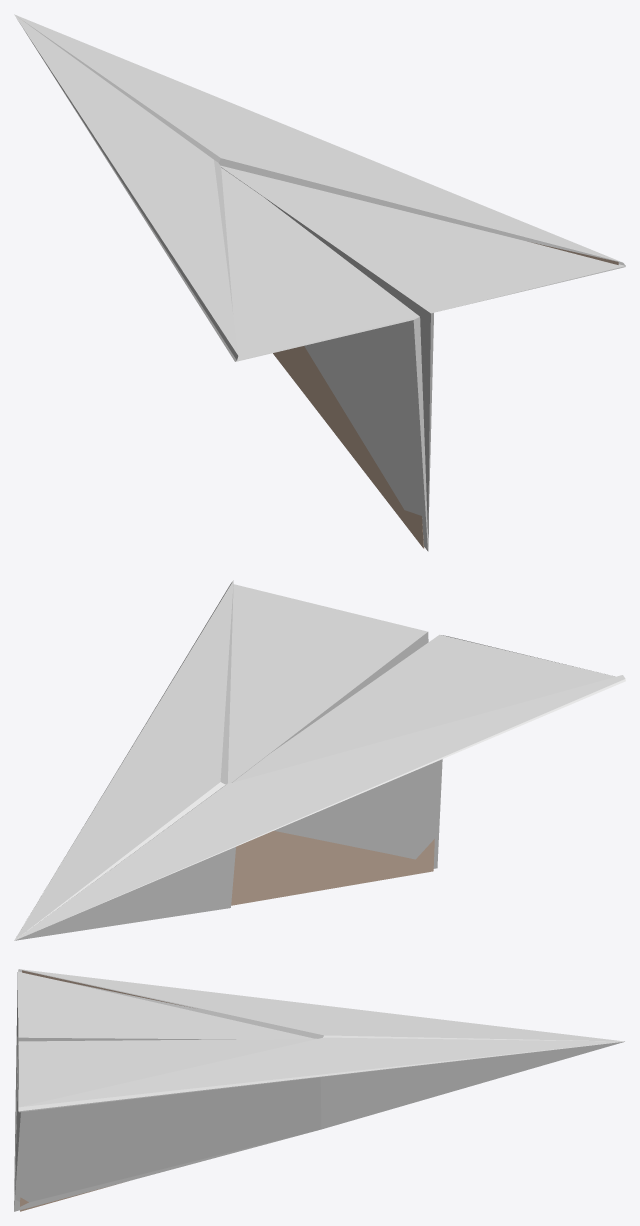
Rendered from paper_plane_model.fbx.
3 views of the same model, one above another, from view 1: azimuth 30°, elevation 25°; view 2: azimuth 150°, elevation 25°; view 3: azimuth 270°, elevation 25° (orthographic). The views are drawn at different scales.
Parts seen in each view (by area): view 1: Cube; view 2: Cube; view 3: Cube.
Boxes of the visible parts, x1,y1,x2,y2 form: Cube: [14, 14, 625, 551]; Cube: [14, 580, 625, 940]; Cube: [14, 969, 624, 1211].
Bounding box in the file's own units: 110 × 64.32 × 203.
